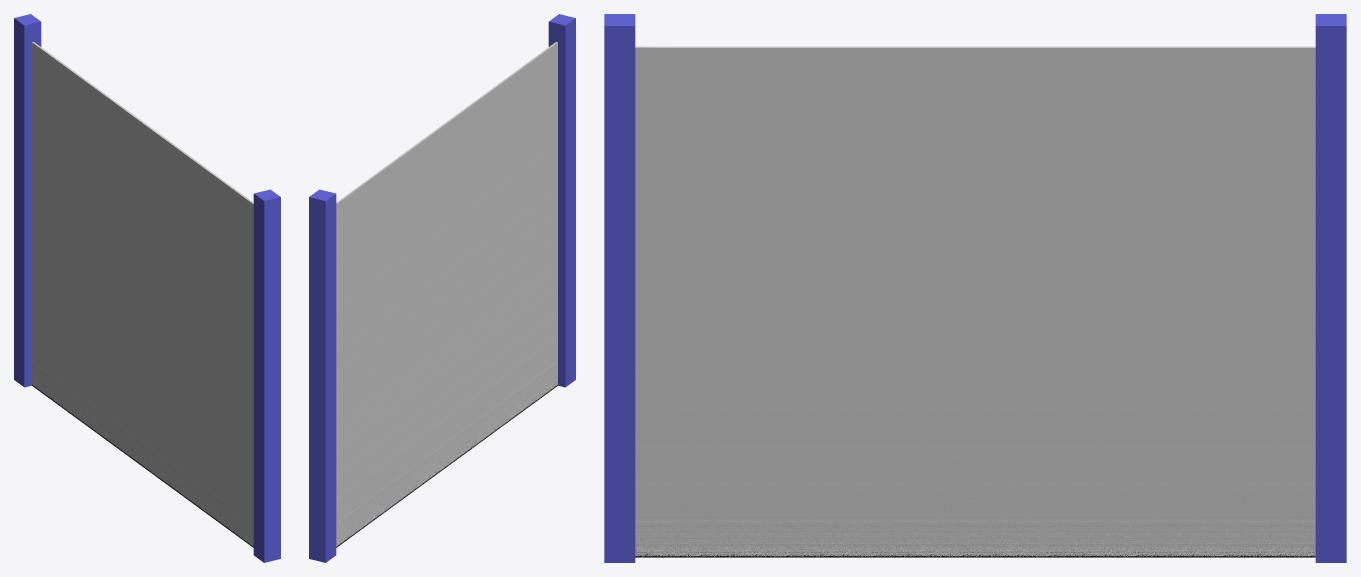
Rendered from Gate (1).fbx.
The picture shows the model from 3 angles, left to right: view 1: azimuth 30°, elevation 25°; view 2: azimuth 150°, elevation 25°; view 3: azimuth 270°, elevation 25°; orthographic projection. The views are drawn at different scales.
Parts seen in each view (by area): view 1: Side_02.001, Side_02.002, Side_02; view 2: Side_02.001, Side_02, Side_02.002; view 3: Side_02.001, Side_02, Side_02.002.
Boxes of the visible parts, bbox=[...] form: Side_02.001: bbox=[32, 41, 253, 547]; Side_02.002: bbox=[253, 189, 280, 562]; Side_02: bbox=[14, 14, 41, 387]; Side_02.001: bbox=[336, 41, 557, 547]; Side_02: bbox=[309, 189, 336, 562]; Side_02.002: bbox=[548, 14, 575, 387]; Side_02.001: bbox=[635, 46, 1315, 557]; Side_02: bbox=[1315, 14, 1346, 562]; Side_02.002: bbox=[604, 14, 635, 562].
Bounding box in the file's own units: 7.2 × 149 × 187.
Materials: 2 (1 with a texture image).
